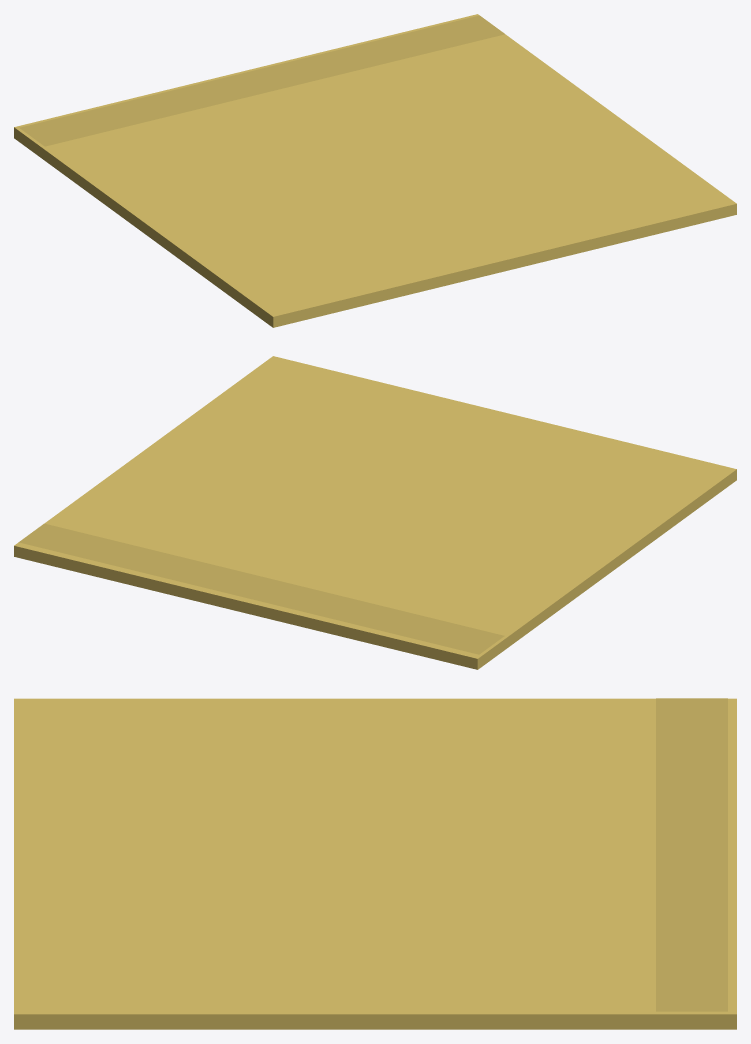
The model's file is lab_postit_bio.glb.
3 renders of one model, top to bottom at view 1: azimuth 30°, elevation 25°; view 2: azimuth 150°, elevation 25°; view 3: azimuth 270°, elevation 25°, orthographic. The views are drawn at different scales.
Parts seen in each view (by area): view 1: block_colored sticky memo, block_adhesive band; view 2: block_colored sticky memo, block_adhesive band; view 3: block_colored sticky memo, block_adhesive band.
Part boxes in pixels (box(x1,y1,x2,y2)): block_colored sticky memo: box(14, 14, 736, 327); block_adhesive band: box(19, 15, 504, 146); block_colored sticky memo: box(14, 356, 736, 669); block_adhesive band: box(19, 523, 504, 654); block_colored sticky memo: box(14, 698, 736, 1029); block_adhesive band: box(656, 698, 727, 1011).
Bounding box in the file's own units: 0.076 × 0.00193 × 0.0736.
Materials: 1 (1 with a texture image).
